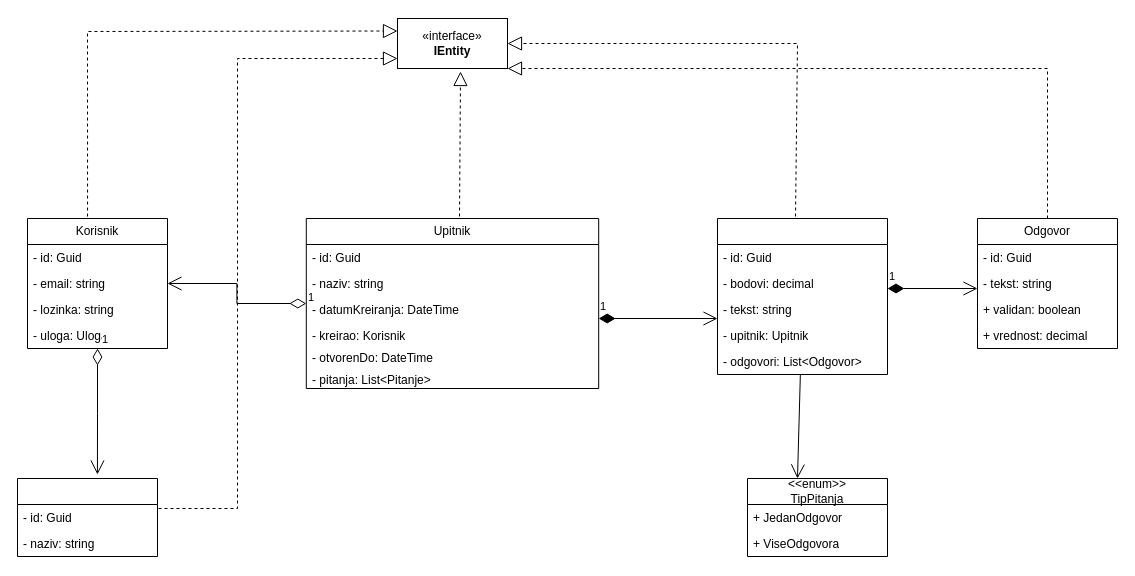
The diagram is 1135 pixels wide and 576 high, and some of its shapes have lost their labels. Here are the shapes that lost their labels. From the top down, the box of each, then its label:
(716, 218, 888, 374): Pitanje
(16, 478, 158, 556): Uloga
